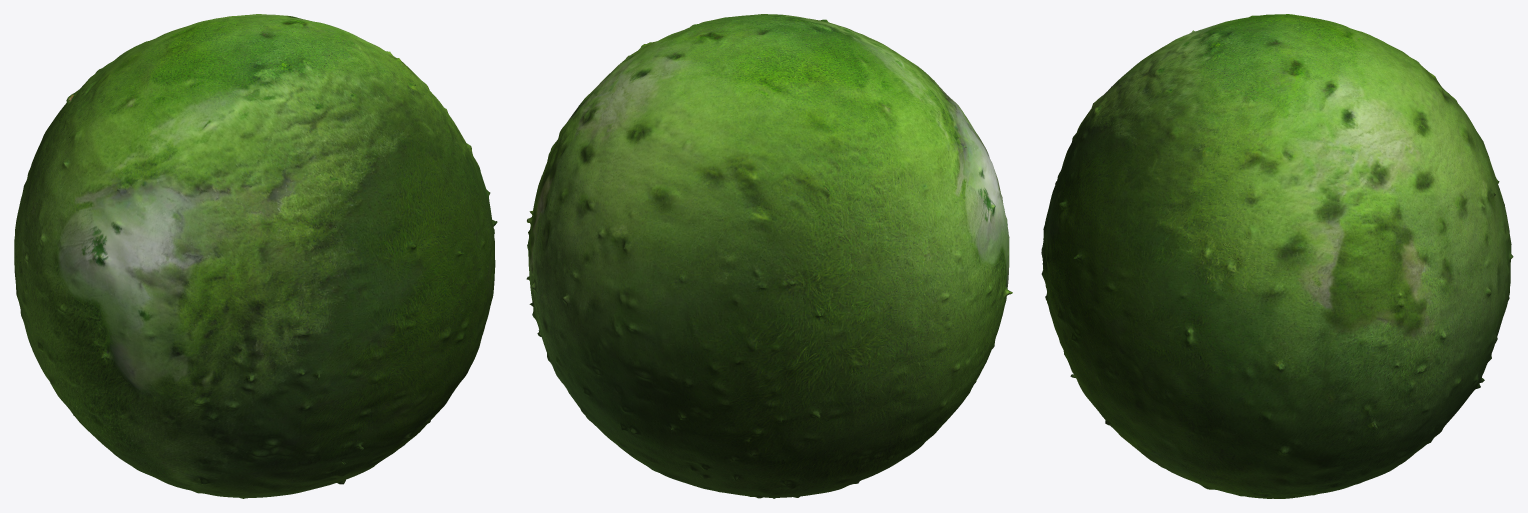
Rendered from Earth_realistic_model.gltf.
The picture shows the model from 3 angles, left to right: view 1: azimuth 30°, elevation 25°; view 2: azimuth 150°, elevation 25°; view 3: azimuth 270°, elevation 25°; orthographic projection.
Parts seen in each view (by area): view 1: Node #0; view 2: Node #0; view 3: Node #0.
Part boxes in pixels (bbox=[...]): Node #0: bbox=[14, 14, 497, 498]; Node #0: bbox=[526, 14, 1012, 498]; Node #0: bbox=[1041, 14, 1513, 498].
Bounding box in the file's own units: 2 × 2 × 1.95.
1 material, 1 textured.
